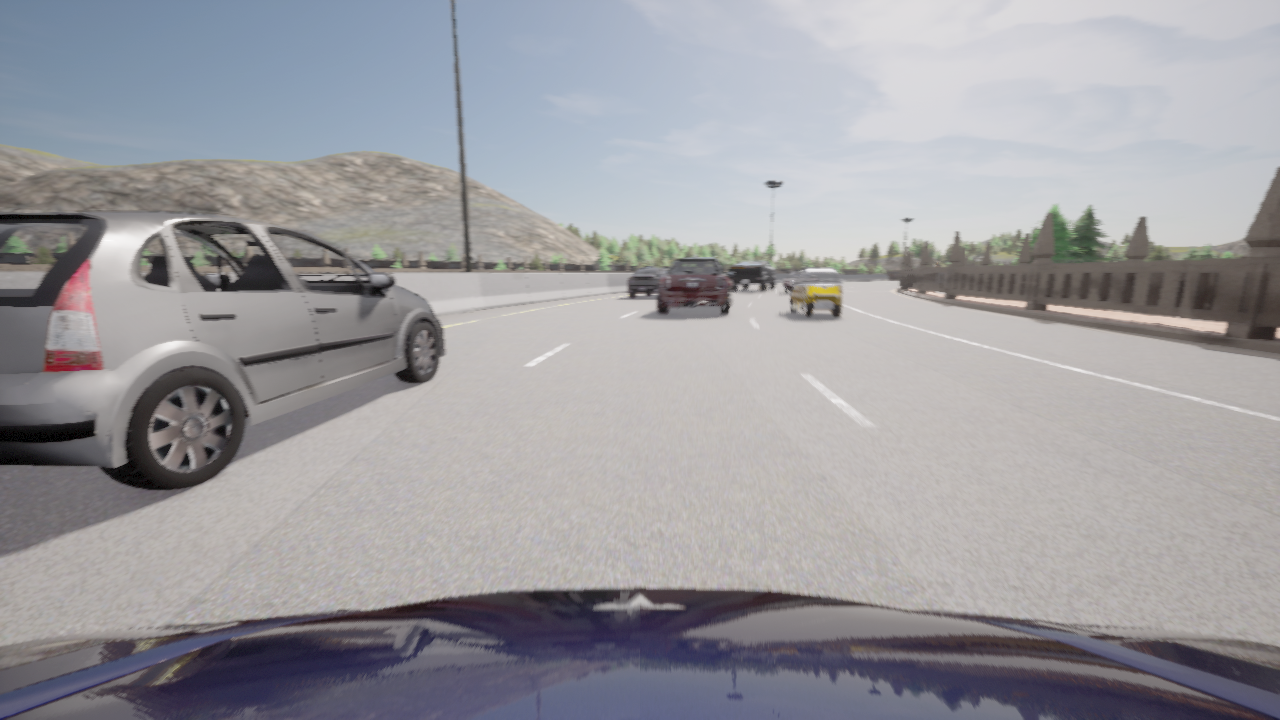cyclist: (0, 588, 1279, 719), (0, 211, 445, 490), (657, 253, 733, 314), (790, 267, 842, 317), (729, 260, 776, 291), (628, 267, 667, 297), (783, 272, 801, 292)
pedestrian: (934, 262, 940, 267)
